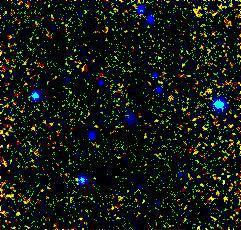star: (193, 75, 223, 105)
